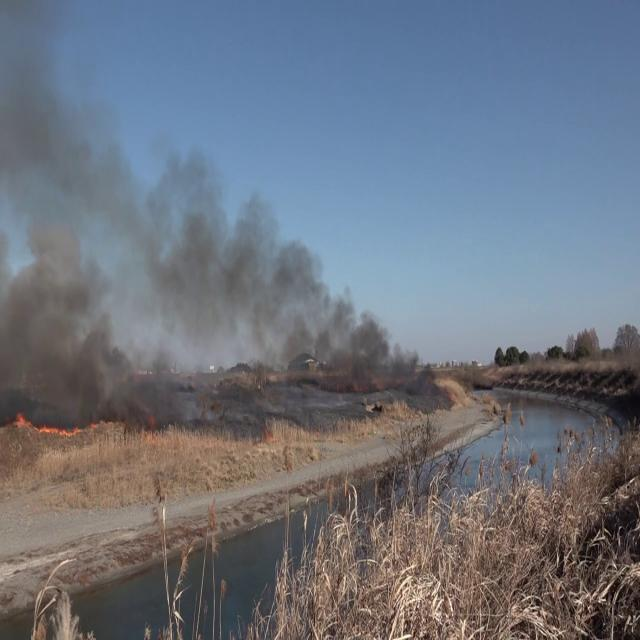Smoke: (0, 120, 429, 407)
